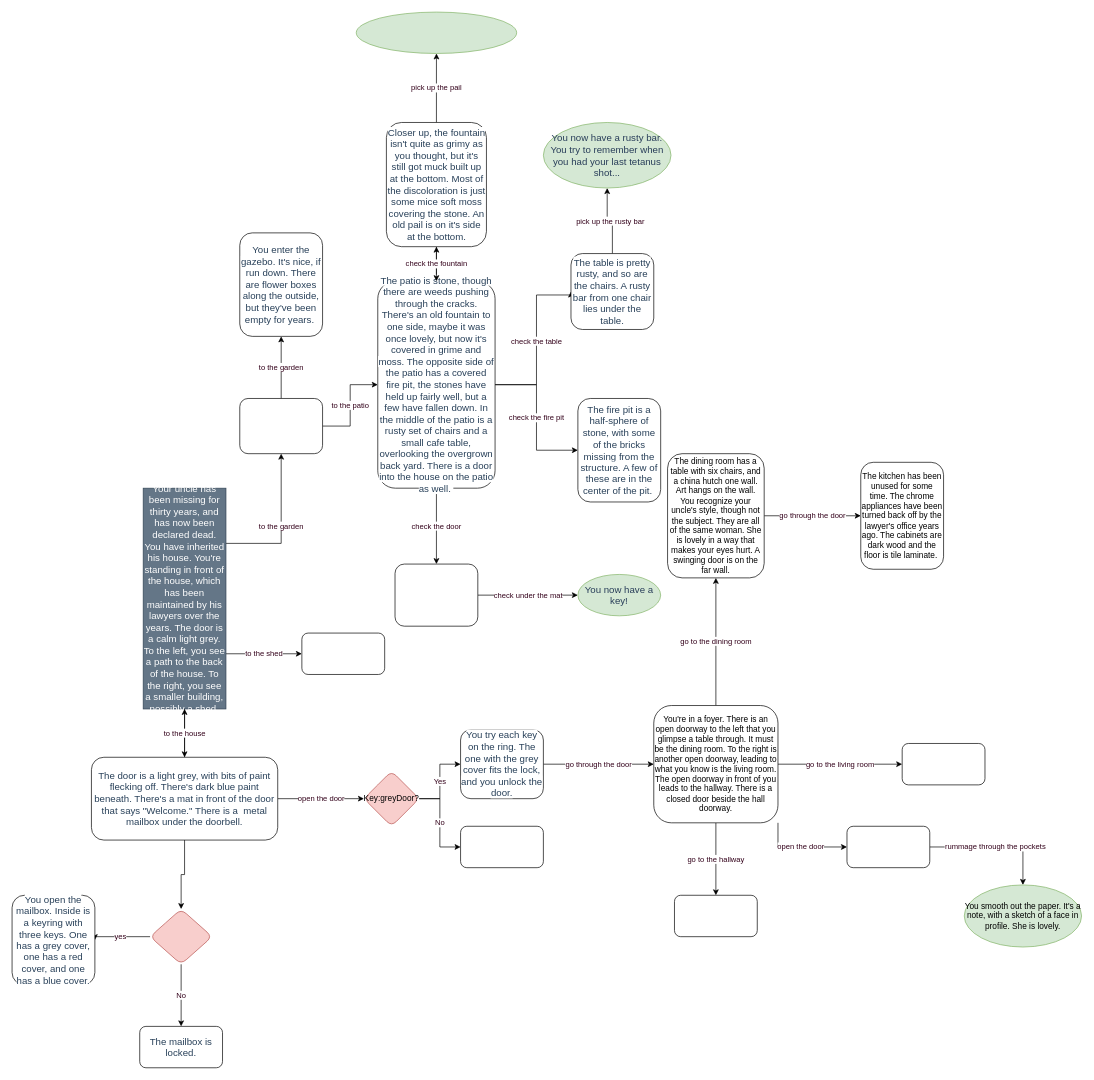
Image size: 1094x1080. Some labels were removed from this diagram. Each missing label, with the centre of its shape:
It's a closet. The coats smell sligtly musty.: [888,847]
Key:mailbox?: [180,936]
The door is faded blue, and there is an old mat that says "Oh, it's you...": [436,594]
The door is locked.: [501,847]
You now have the pail. It's still pretty gross....: [436,32]
You see a gazebo on the left and a patio to the right.: [281,426]
